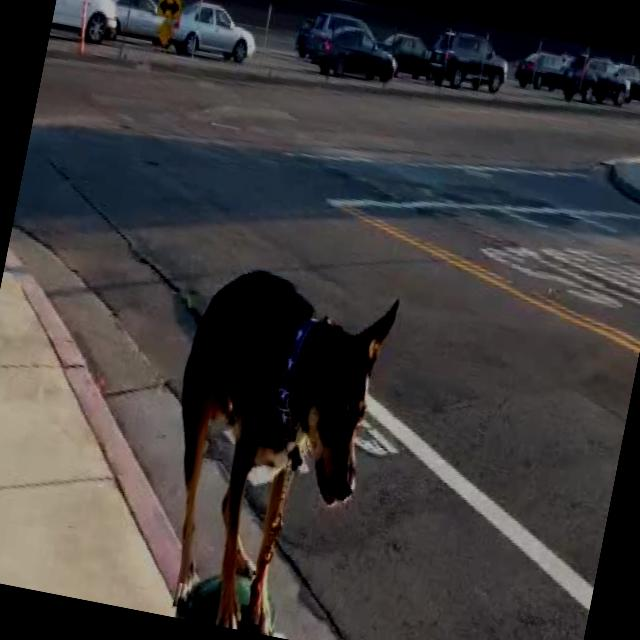Vehicle: (304, 8, 408, 92), (167, 0, 263, 66), (434, 29, 514, 98), (48, 0, 126, 52), (95, 0, 172, 52), (556, 48, 610, 108), (376, 31, 436, 78), (514, 50, 568, 96), (611, 62, 640, 107), (423, 48, 448, 84)
